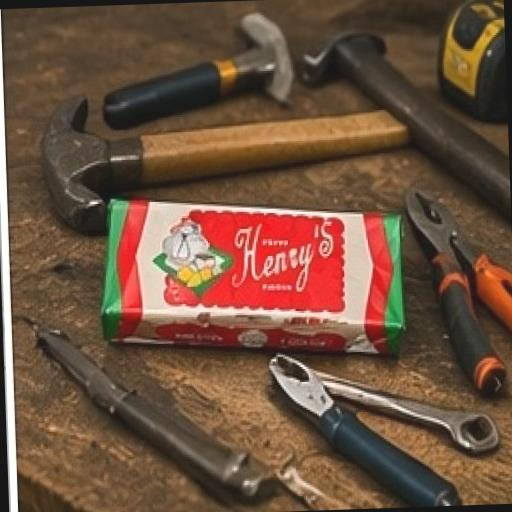golden: (57, 136, 465, 432)
